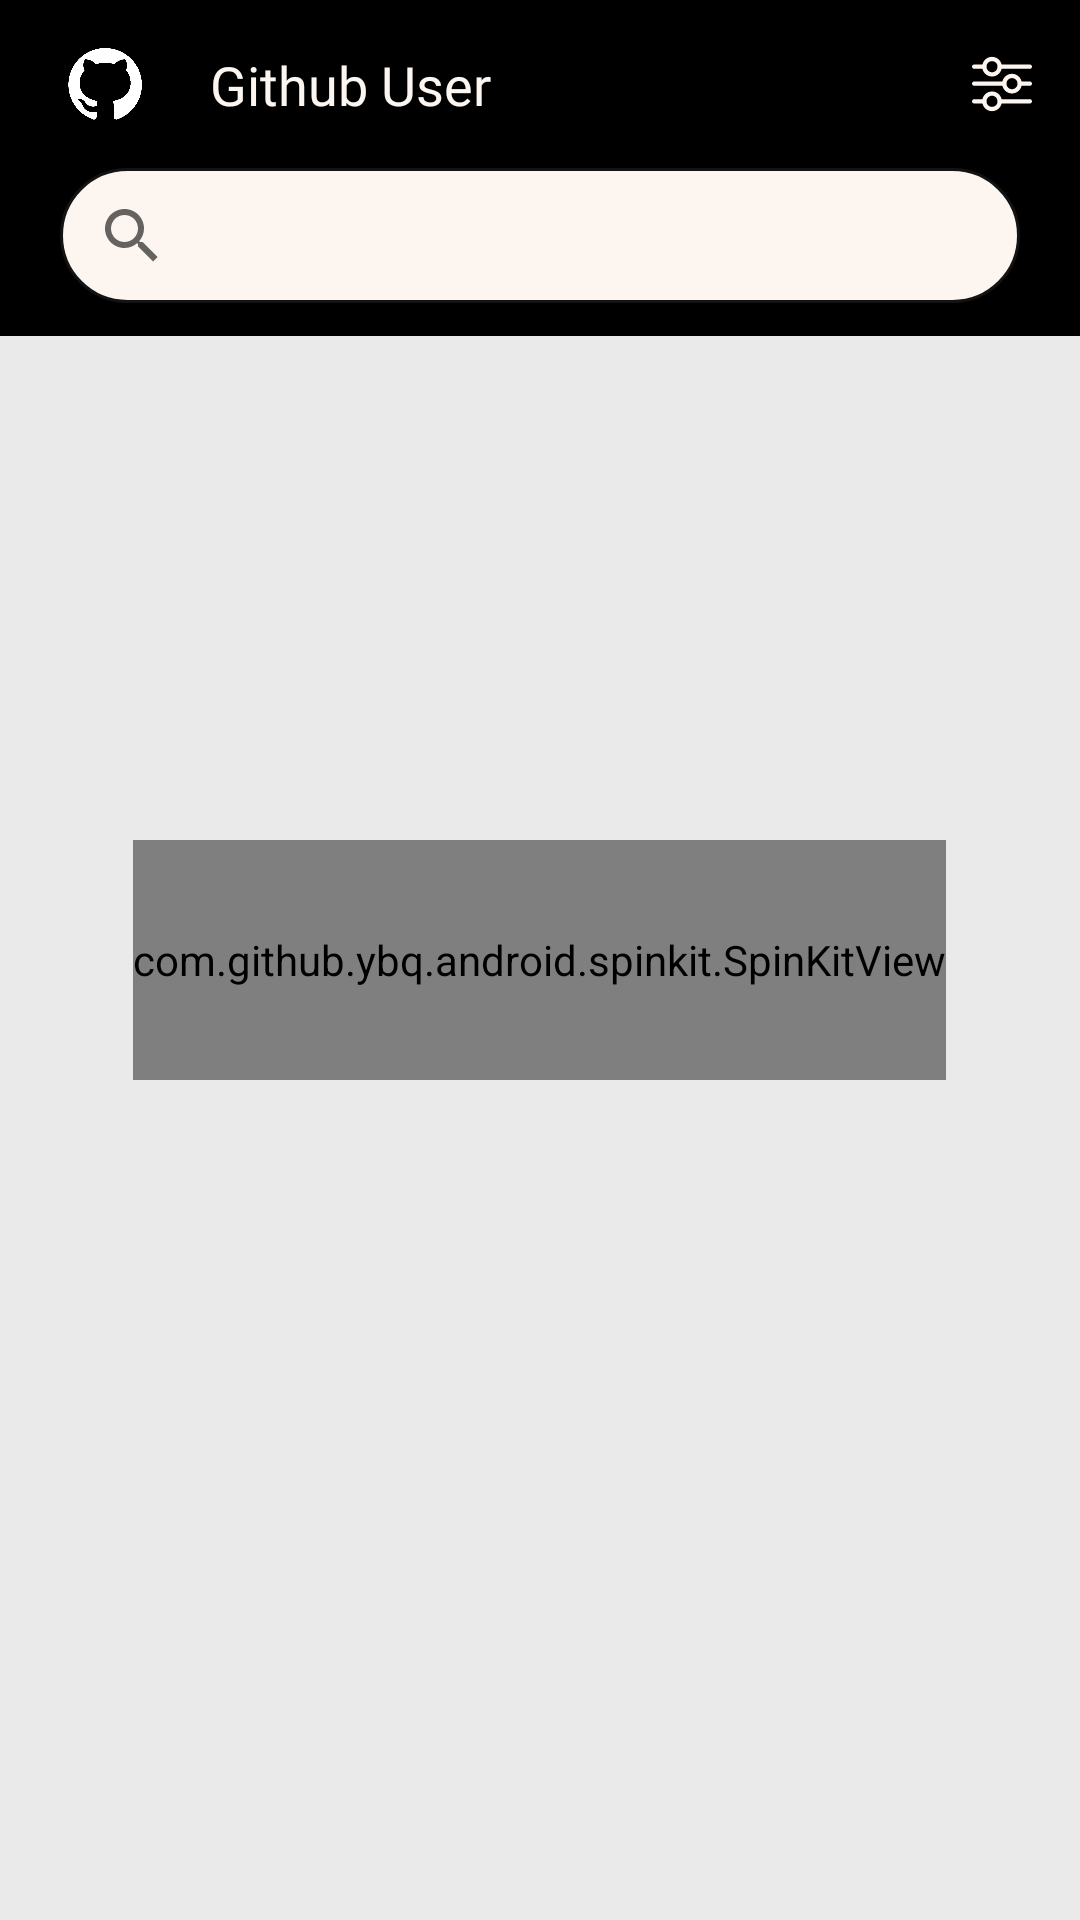

Where to tap for icons on this 1080*1920 app screen, as point (x, y):
settings: point (1002, 84)
